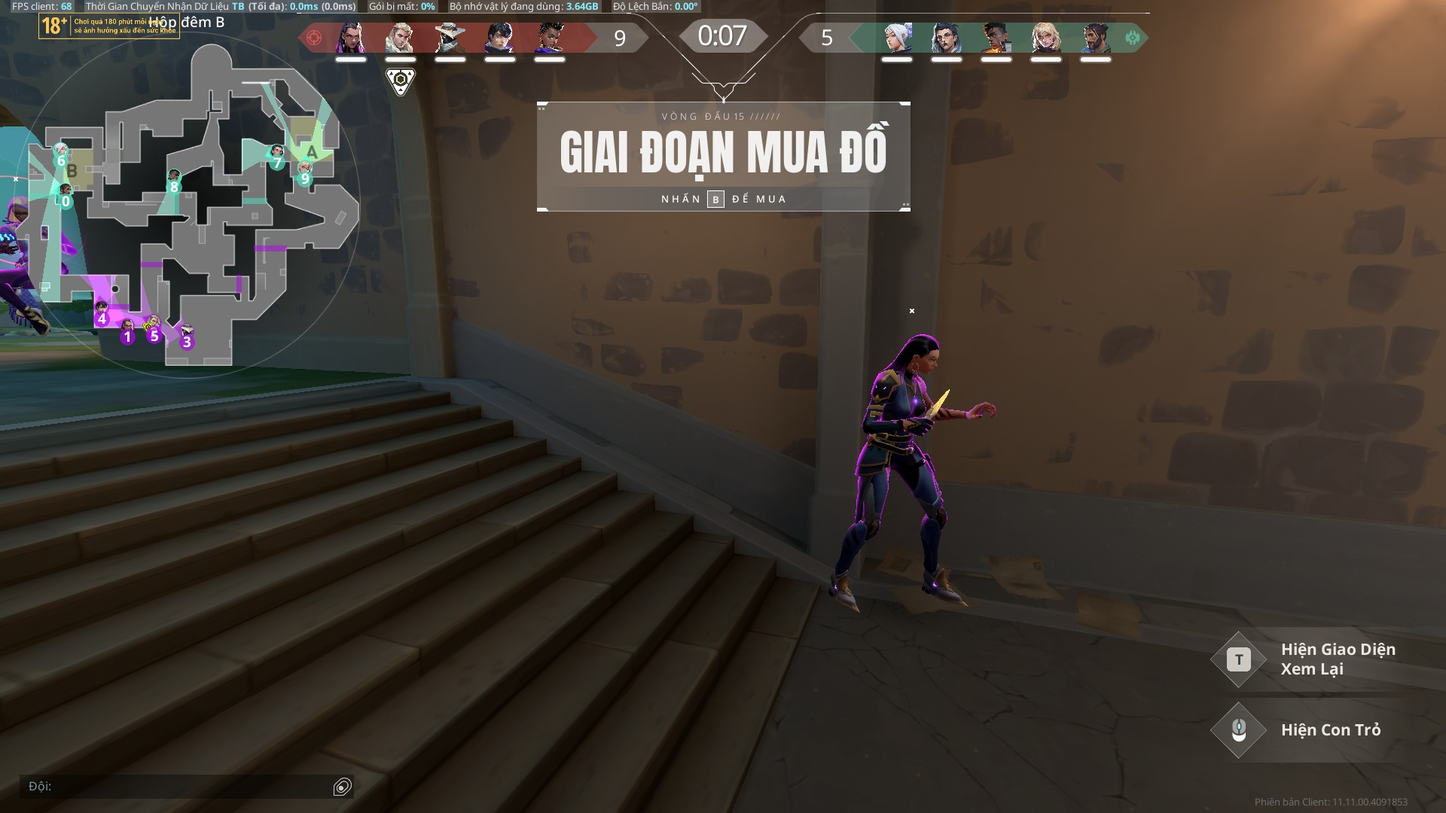body: (877, 361, 936, 446)
head: (903, 328, 947, 374)
